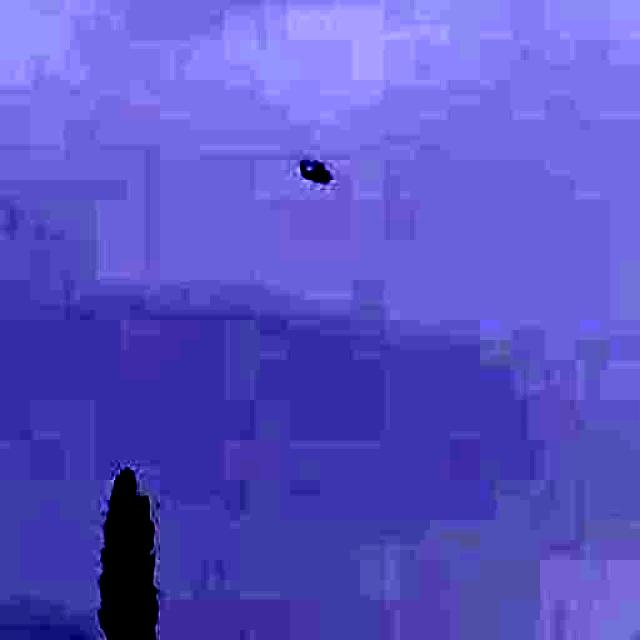drone: (282, 145, 345, 192)
